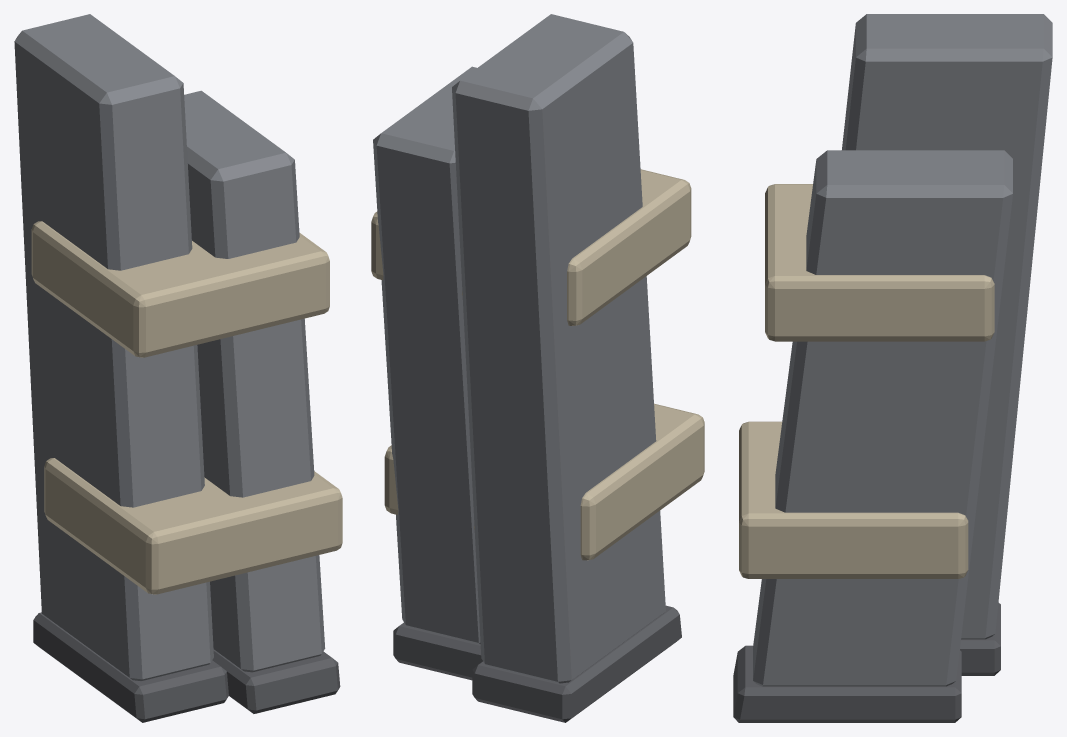
Rendered from att_fast_mag.fbx.
3 renders of one model, left to right at view 1: azimuth 30°, elevation 25°; view 2: azimuth 150°, elevation 25°; view 3: azimuth 270°, elevation 25°, orthographic. The views are drawn at different scales.
Parts seen in each view (by area): view 1: att_fast_mag; view 2: att_fast_mag; view 3: att_fast_mag.
Part boxes in pixels (x1,y1,x2,y2): att_fast_mag: (14, 14, 342, 722); att_fast_mag: (371, 14, 704, 722); att_fast_mag: (733, 14, 1052, 722).
Size of the model in its own units: 0.072 by 0.21 by 0.0974.
